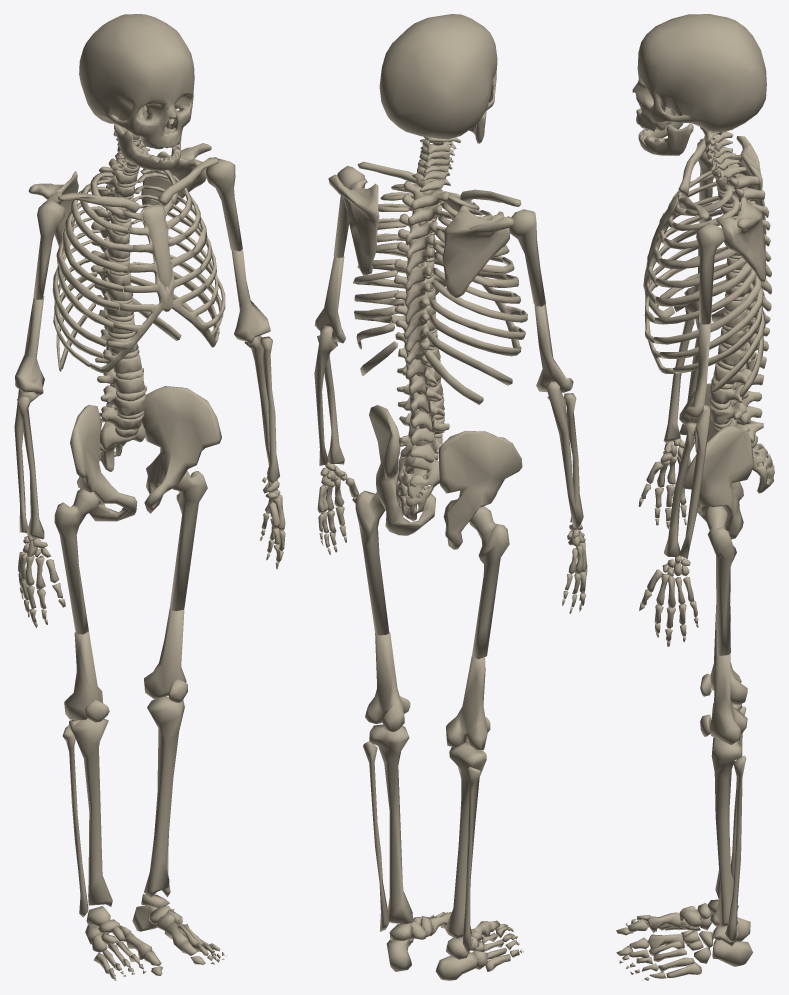
File: pediatric_child_10y_male.skeletal.LOD2.glb
The picture shows the model from 3 angles, left to right: view 1: azimuth 30°, elevation 25°; view 2: azimuth 150°, elevation 25°; view 3: azimuth 270°, elevation 25°; orthographic projection.
Parts seen in each view (by area): view 1: PEDIATRIC.CHILD_10Y.MALE.SKELETAL.CRANIUM_CORTICAL, PEDIATRIC.CHILD_10Y.MALE.SKELETAL.RIBS_CORTICAL, PEDIATRIC.CHILD_10Y.MALE.SKELETAL.PELVIS_CORTICAL, PEDIATRIC.CHILD_10Y.MALE.SKELETAL.TIBIAE_CORTICAL, PEDIATRIC.CHILD_10Y.MALE.SKELETAL.CARTILAGE_TRUNK, PEDIATRIC.CHILD_10Y.MALE.SKELETAL.FEMORA_UPPER_CORTICAL, PEDIATRIC.CHILD_10Y.MALE.SKELETAL.ANKLES_AND_FOOT_CORTICAL, PEDIATRIC.CHILD_10Y.MALE.SKELETAL.FEMORA_LOWER_CORTICAL, PEDIATRIC.CHILD_10Y.MALE.SKELETAL.WRISTS_AND_HAND_BONES_CORT, PEDIATRIC.CHILD_10Y.MALE.SKELETAL.HUMERI_LOWER_CORTICAL, PEDIATRIC.CHILD_10Y.MALE.SKELETAL.THORACIC_SPINE_CORTICAL, PEDIATRIC.CHILD_10Y.MALE.SKELETAL.HUMERI_UPPER_CORTICAL (+10 smaller); view 2: PEDIATRIC.CHILD_10Y.MALE.SKELETAL.CRANIUM_CORTICAL, PEDIATRIC.CHILD_10Y.MALE.SKELETAL.RIBS_CORTICAL, PEDIATRIC.CHILD_10Y.MALE.SKELETAL.PELVIS_CORTICAL, PEDIATRIC.CHILD_10Y.MALE.SKELETAL.SCAPULAE_CORTICAL, PEDIATRIC.CHILD_10Y.MALE.SKELETAL.TIBIAE_CORTICAL, PEDIATRIC.CHILD_10Y.MALE.SKELETAL.THORACIC_SPINE_CORTICAL, PEDIATRIC.CHILD_10Y.MALE.SKELETAL.FEMORA_UPPER_CORTICAL, PEDIATRIC.CHILD_10Y.MALE.SKELETAL.FEMORA_LOWER_CORTICAL, PEDIATRIC.CHILD_10Y.MALE.SKELETAL.ANKLES_AND_FOOT_CORTICAL, PEDIATRIC.CHILD_10Y.MALE.SKELETAL.LUMBAR_SPINE_CORTICAL, PEDIATRIC.CHILD_10Y.MALE.SKELETAL.WRISTS_AND_HAND_BONES_CORT, PEDIATRIC.CHILD_10Y.MALE.SKELETAL.ULNAE_CORTICAL (+8 smaller); view 3: PEDIATRIC.CHILD_10Y.MALE.SKELETAL.CRANIUM_CORTICAL, PEDIATRIC.CHILD_10Y.MALE.SKELETAL.RIBS_CORTICAL, PEDIATRIC.CHILD_10Y.MALE.SKELETAL.ANKLES_AND_FOOT_CORTICAL, PEDIATRIC.CHILD_10Y.MALE.SKELETAL.PELVIS_CORTICAL, PEDIATRIC.CHILD_10Y.MALE.SKELETAL.WRISTS_AND_HAND_BONES_CORT, PEDIATRIC.CHILD_10Y.MALE.SKELETAL.SCAPULAE_CORTICAL, PEDIATRIC.CHILD_10Y.MALE.SKELETAL.TIBIAE_CORTICAL, PEDIATRIC.CHILD_10Y.MALE.SKELETAL.LUMBAR_SPINE_CORTICAL, PEDIATRIC.CHILD_10Y.MALE.SKELETAL.THORACIC_SPINE_CORTICAL, PEDIATRIC.CHILD_10Y.MALE.SKELETAL.FEMORA_LOWER_CORTICAL, PEDIATRIC.CHILD_10Y.MALE.SKELETAL.CARTILAGE_TRUNK, PEDIATRIC.CHILD_10Y.MALE.SKELETAL.FEMORA_UPPER_CORTICAL (+10 smaller).
Part boxes in pixels (x1,y1,x2,y2): PEDIATRIC.CHILD_10Y.MALE.SKELETAL.CRANIUM_CORTICAL: (79, 14, 194, 149); PEDIATRIC.CHILD_10Y.MALE.SKELETAL.RIBS_CORTICAL: (52, 168, 225, 371); PEDIATRIC.CHILD_10Y.MALE.SKELETAL.PELVIS_CORTICAL: (70, 386, 221, 521); PEDIATRIC.CHILD_10Y.MALE.SKELETAL.TIBIAE_CORTICAL: (69, 697, 184, 906); PEDIATRIC.CHILD_10Y.MALE.SKELETAL.CARTILAGE_TRUNK: (89, 138, 220, 438); PEDIATRIC.CHILD_10Y.MALE.SKELETAL.FEMORA_UPPER_CORTICAL: (54, 470, 207, 634); PEDIATRIC.CHILD_10Y.MALE.SKELETAL.ANKLES_AND_FOOT_CORTICAL: (85, 894, 226, 980); PEDIATRIC.CHILD_10Y.MALE.SKELETAL.FEMORA_LOWER_CORTICAL: (64, 608, 186, 720); PEDIATRIC.CHILD_10Y.MALE.SKELETAL.WRISTS_AND_HAND_BONES_CORT: (18, 476, 285, 628); PEDIATRIC.CHILD_10Y.MALE.SKELETAL.HUMERI_LOWER_CORTICAL: (15, 250, 270, 396); PEDIATRIC.CHILD_10Y.MALE.SKELETAL.THORACIC_SPINE_CORTICAL: (91, 158, 138, 333); PEDIATRIC.CHILD_10Y.MALE.SKELETAL.HUMERI_UPPER_CORTICAL: (33, 158, 242, 299); PEDIATRIC.CHILD_10Y.MALE.SKELETAL.CRANIUM_CORTICAL: (379, 14, 497, 139); PEDIATRIC.CHILD_10Y.MALE.SKELETAL.RIBS_CORTICAL: (353, 183, 527, 404); PEDIATRIC.CHILD_10Y.MALE.SKELETAL.PELVIS_CORTICAL: (369, 405, 522, 549); PEDIATRIC.CHILD_10Y.MALE.SKELETAL.SCAPULAE_CORTICAL: (328, 174, 514, 297); PEDIATRIC.CHILD_10Y.MALE.SKELETAL.TIBIAE_CORTICAL: (369, 724, 486, 938); PEDIATRIC.CHILD_10Y.MALE.SKELETAL.THORACIC_SPINE_CORTICAL: (393, 181, 449, 379); PEDIATRIC.CHILD_10Y.MALE.SKELETAL.FEMORA_UPPER_CORTICAL: (355, 490, 509, 659); PEDIATRIC.CHILD_10Y.MALE.SKELETAL.FEMORA_LOWER_CORTICAL: (365, 632, 487, 749); PEDIATRIC.CHILD_10Y.MALE.SKELETAL.ANKLES_AND_FOOT_CORTICAL: (386, 912, 523, 980); PEDIATRIC.CHILD_10Y.MALE.SKELETAL.LUMBAR_SPINE_CORTICAL: (396, 365, 449, 463); PEDIATRIC.CHILD_10Y.MALE.SKELETAL.WRISTS_AND_HAND_BONES_CORT: (317, 463, 587, 613); PEDIATRIC.CHILD_10Y.MALE.SKELETAL.ULNAE_CORTICAL: (314, 325, 581, 528); PEDIATRIC.CHILD_10Y.MALE.SKELETAL.CRANIUM_CORTICAL: (632, 14, 766, 132); PEDIATRIC.CHILD_10Y.MALE.SKELETAL.RIBS_CORTICAL: (653, 168, 765, 397); PEDIATRIC.CHILD_10Y.MALE.SKELETAL.ANKLES_AND_FOOT_CORTICAL: (616, 899, 752, 980); PEDIATRIC.CHILD_10Y.MALE.SKELETAL.PELVIS_CORTICAL: (679, 383, 753, 539); PEDIATRIC.CHILD_10Y.MALE.SKELETAL.WRISTS_AND_HAND_BONES_CORT: (638, 438, 698, 646); PEDIATRIC.CHILD_10Y.MALE.SKELETAL.SCAPULAE_CORTICAL: (716, 136, 766, 281); PEDIATRIC.CHILD_10Y.MALE.SKELETAL.TIBIAE_CORTICAL: (711, 703, 742, 926); PEDIATRIC.CHILD_10Y.MALE.SKELETAL.LUMBAR_SPINE_CORTICAL: (709, 342, 766, 443); PEDIATRIC.CHILD_10Y.MALE.SKELETAL.THORACIC_SPINE_CORTICAL: (716, 163, 772, 351); PEDIATRIC.CHILD_10Y.MALE.SKELETAL.FEMORA_LOWER_CORTICAL: (709, 605, 747, 744); PEDIATRIC.CHILD_10Y.MALE.SKELETAL.CARTILAGE_TRUNK: (643, 139, 744, 428); PEDIATRIC.CHILD_10Y.MALE.SKELETAL.FEMORA_UPPER_CORTICAL: (705, 506, 736, 655).
Size of the model in its own units: 0.4007 by 1.38 by 0.2124.
